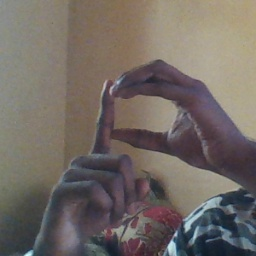P: (72, 57, 213, 197)
